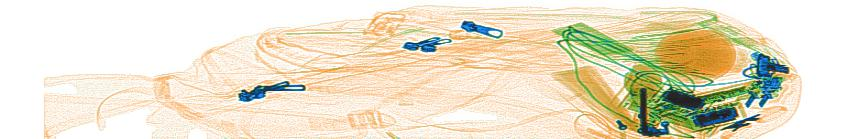scissors: (718, 105, 786, 135)
